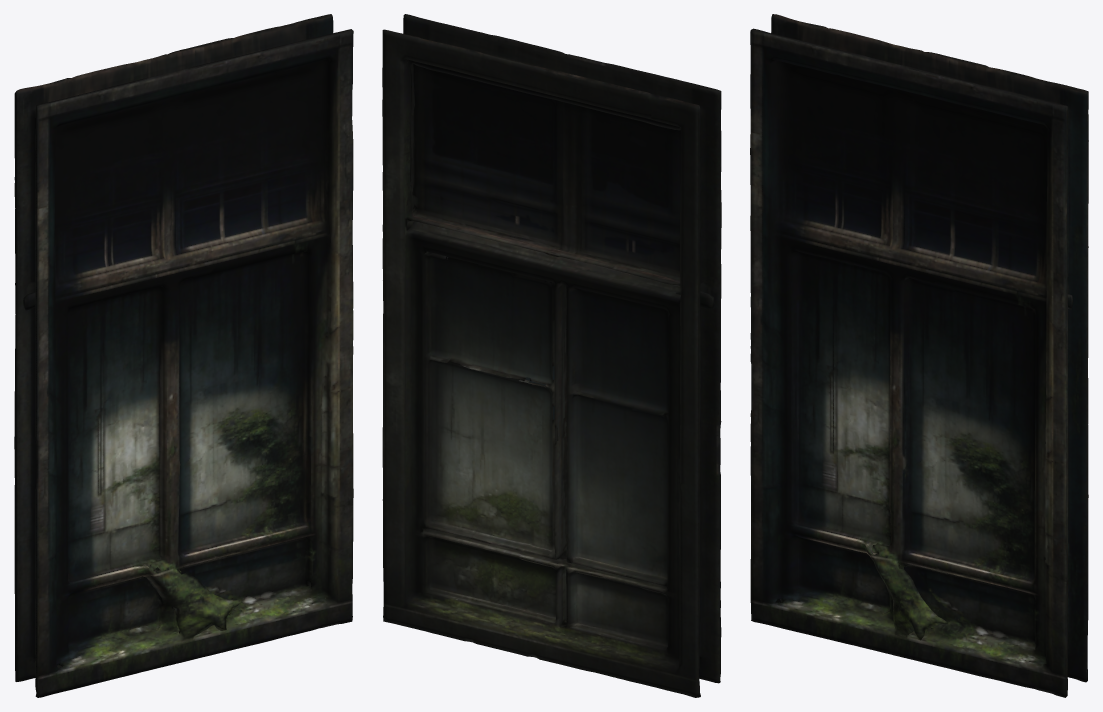
The model's file is original window.fbx.
3 renders of one model, left to right at view 1: azimuth 30°, elevation 25°; view 2: azimuth 150°, elevation 25°; view 3: azimuth 330°, elevation 25°, orthographic.
Parts seen in each view (by area): view 1: Mesh1; view 2: Mesh1; view 3: Mesh1.
Part boxes in pixels (<box>): Mesh1: <box>14,14,353,697</box>; Mesh1: <box>382,14,721,697</box>; Mesh1: <box>750,14,1088,697</box>.
Bounding box in the file's own units: 113 × 200 × 19.72.
1 material, 1 textured.
